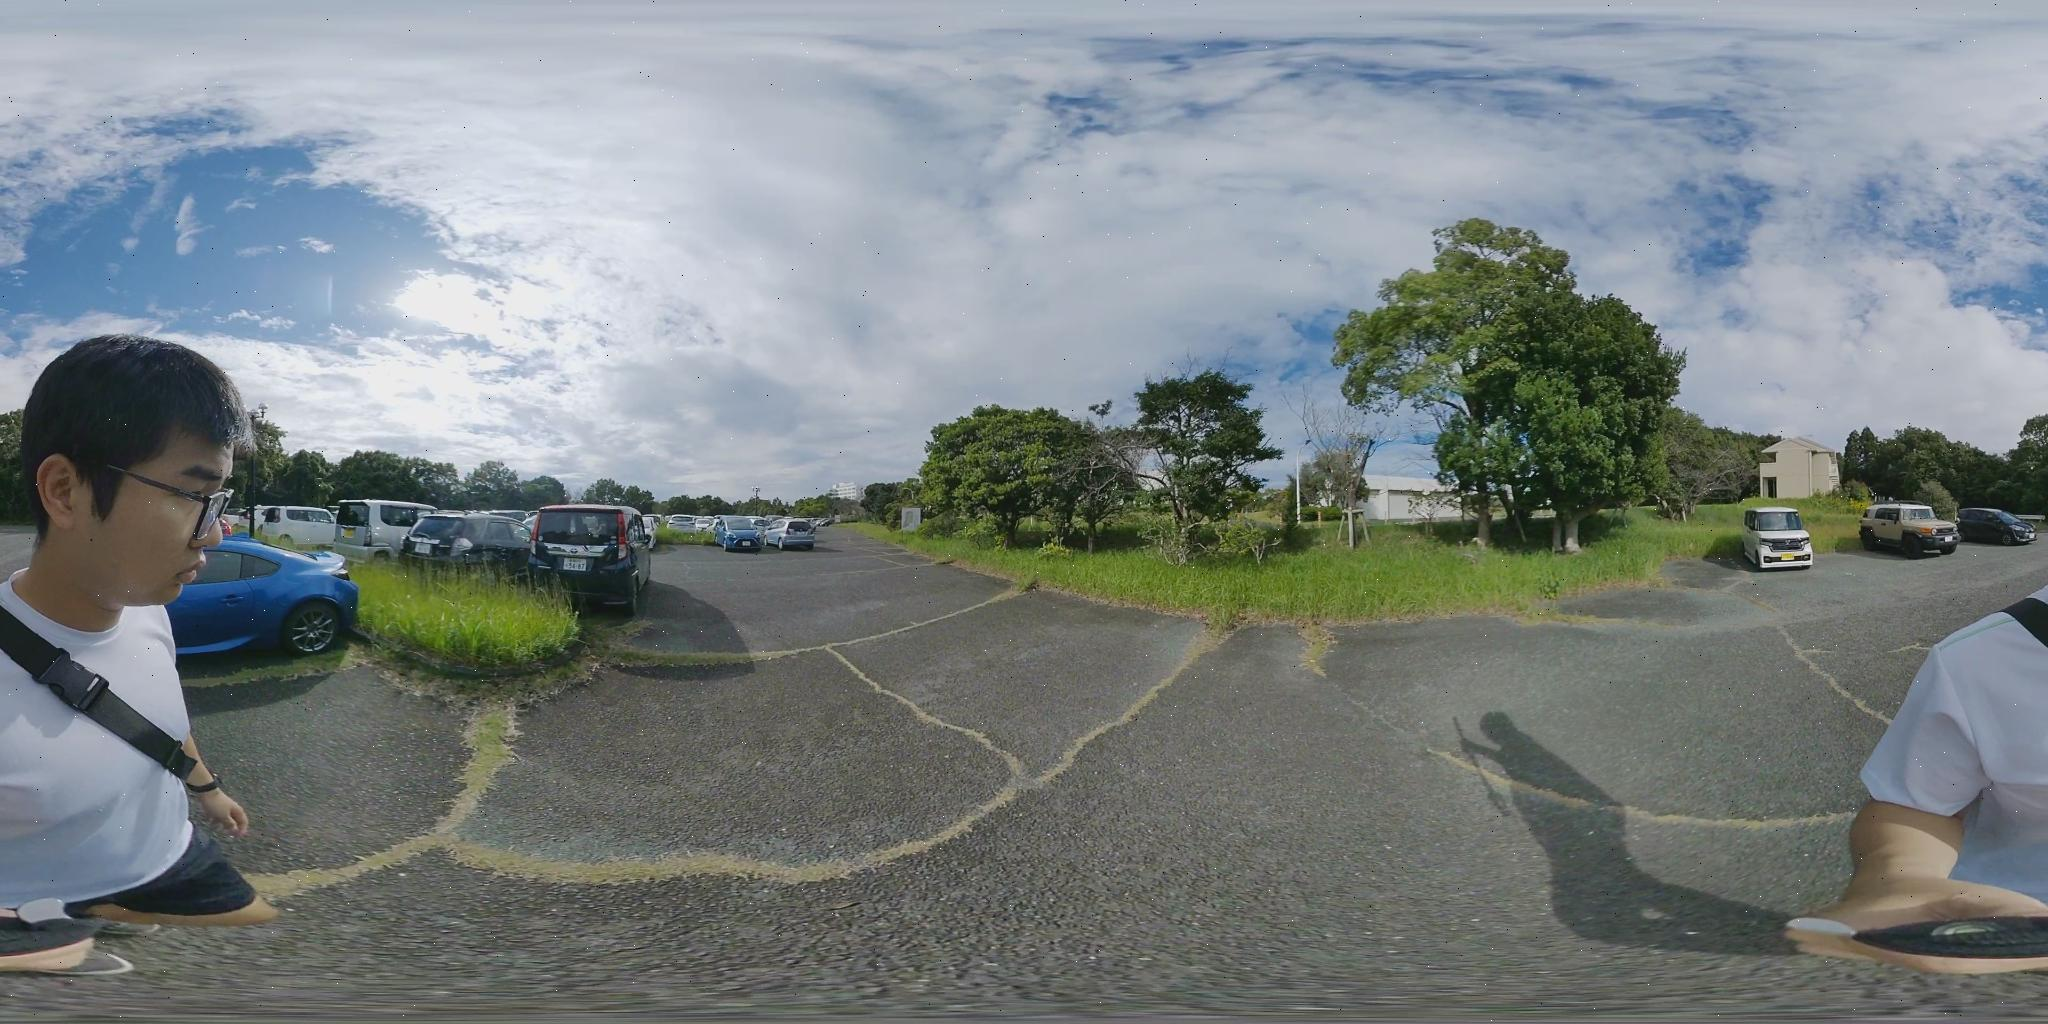car: (80, 534, 366, 660), (536, 505, 643, 609), (411, 512, 532, 563), (1860, 504, 1963, 559), (338, 499, 439, 552), (1748, 508, 1819, 572), (246, 504, 342, 547), (726, 516, 820, 550), (1959, 505, 2043, 543), (718, 519, 780, 551), (767, 521, 819, 551)
